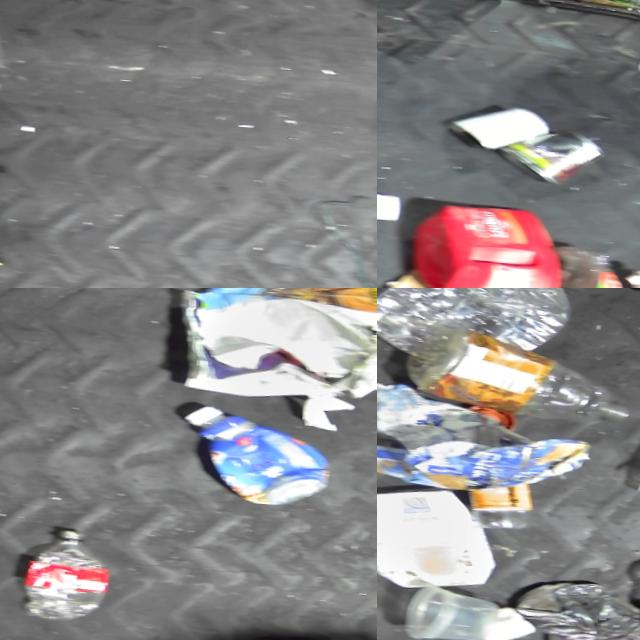can: (497, 117, 605, 178), (446, 95, 552, 148)
non_white_jug: (182, 397, 335, 502), (411, 195, 562, 288)
plastic_bottle: (24, 522, 114, 619), (545, 235, 639, 288)
